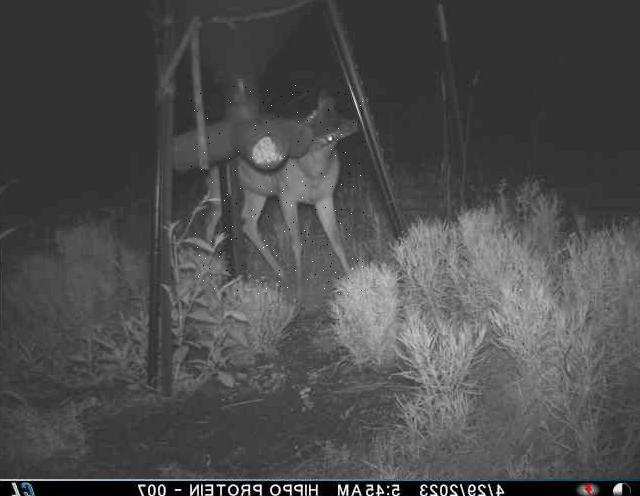Deer: (188, 86, 364, 295)
